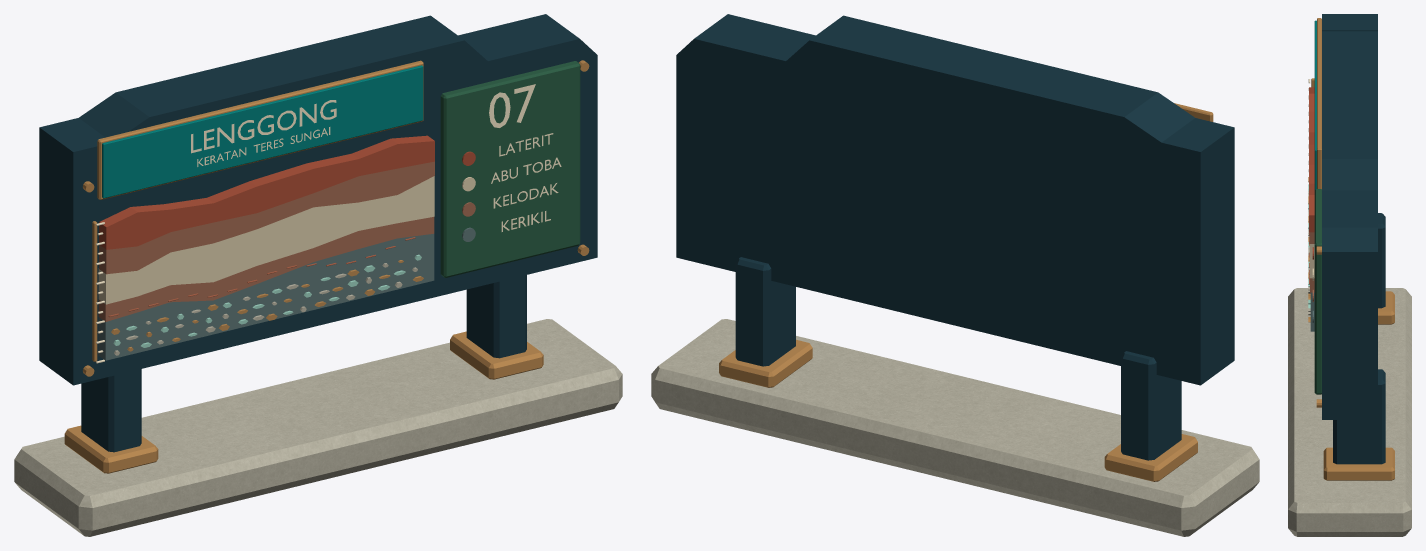
3 renders of one model, left to right at view 1: azimuth 30°, elevation 25°; view 2: azimuth 150°, elevation 25°; view 3: azimuth 270°, elevation 25°, orthographic. The views are drawn at different scales.
Visible parts, largest first — view 1: Patinated surround, Kerbstone pedestal, Relief beds, Museum key, Enamel inset, Portal legs, Cast shoes, Framed inscription, Water worn clasts, Strata legend, Letterpress title, Scale rail; view 2: Patinated surround, Kerbstone pedestal, Portal legs, Cast shoes; view 3: Patinated surround, Kerbstone pedestal, Portal legs, Cast shoes, Museum key, Relief beds, Framed inscription, Enamel inset, Water worn clasts.
Boxes of the visible parts, x1=… form: Patinated surround: x1=39, y1=14, x2=597, y2=385; Kerbstone pedestal: x1=14, y1=319, x2=622, y2=536; Relief beds: x1=98, y1=135, x2=434, y2=360; Museum key: x1=440, y1=61, x2=580, y2=277; Enamel inset: x1=102, y1=65, x2=423, y2=198; Portal legs: x1=81, y1=275, x2=526, y2=452; Cast shoes: x1=64, y1=331, x2=543, y2=473; Framed inscription: x1=97, y1=60, x2=423, y2=199; Water worn clasts: x1=111, y1=254, x2=423, y2=355; Strata legend: x1=491, y1=133, x2=561, y2=231; Letterpress title: x1=191, y1=100, x2=336, y2=153; Scale rail: x1=92, y1=221, x2=97, y2=361; Patinated surround: x1=676, y1=14, x2=1234, y2=385; Kerbstone pedestal: x1=651, y1=319, x2=1259, y2=536; Portal legs: x1=735, y1=257, x2=1181, y2=460; Cast shoes: x1=719, y1=339, x2=1197, y2=481; Patinated surround: x1=1322, y1=14, x2=1377, y2=419; Kerbstone pedestal: x1=1288, y1=288, x2=1411, y2=536; Portal legs: x1=1333, y1=213, x2=1385, y2=464; Cast shoes: x1=1323, y1=291, x2=1394, y2=480; Museum key: x1=1314, y1=189, x2=1321, y2=394; Relief beds: x1=1309, y1=87, x2=1314, y2=331; Framed inscription: x1=1317, y1=18, x2=1321, y2=189; Enamel inset: x1=1314, y1=20, x2=1316, y2=190; Water worn clasts: x1=1308, y1=177, x2=1310, y2=322.
Bounding box in the file's own units: 2.78 × 1.9 × 0.66.
12 materials, 1 textured.
